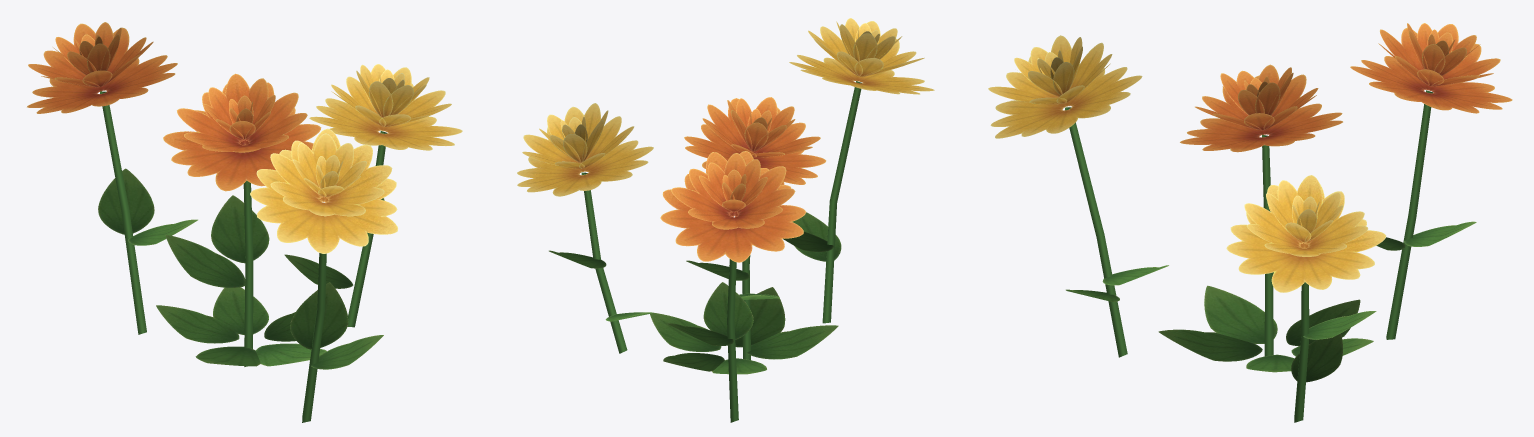
The model's file is flower-mum.glb.
The picture shows the model from 3 angles, left to right: view 1: azimuth 30°, elevation 25°; view 2: azimuth 150°, elevation 25°; view 3: azimuth 270°, elevation 25°; orthographic projection. The views are drawn at different scales.
Parts seen in each view (by area): view 1: Flower; view 2: Flower; view 3: Flower.
Boxes of the visible parts, x1,y1,x2,y2 form: Flower: (27,22,462,422); Flower: (517,18,934,422); Flower: (988,23,1512,422).
Bounding box in the file's own units: 0.6653 × 0.5188 × 0.8226.
Materials: 1 (1 with a texture image).
